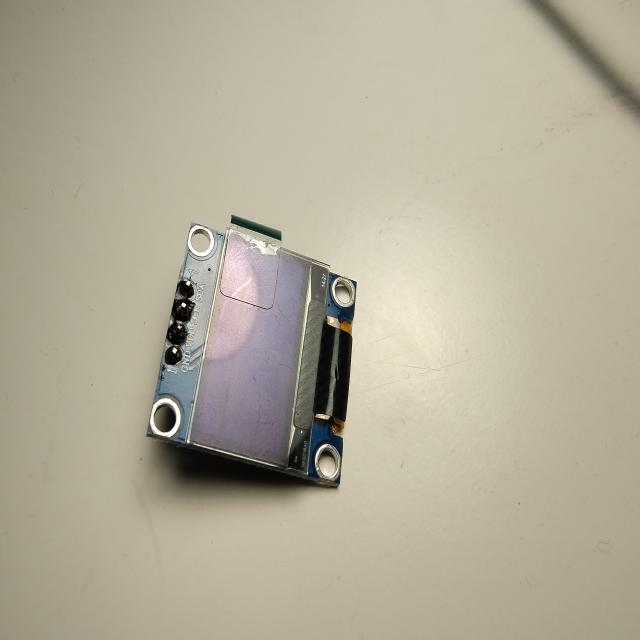oled: (138, 199, 364, 496)
